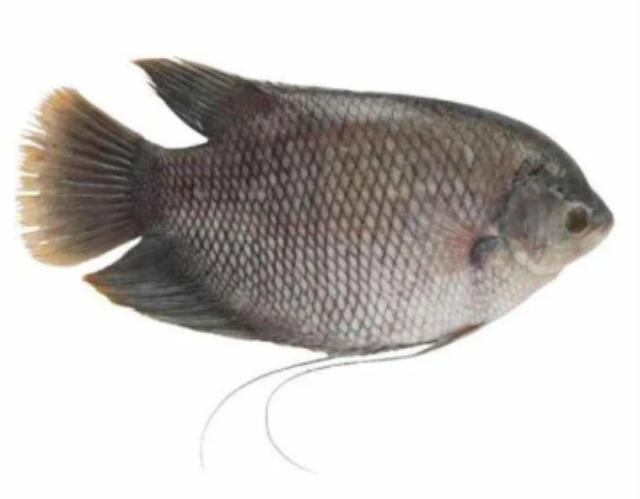Mulut: (540, 182, 628, 283)
Sirip Anal: (73, 228, 323, 368)
Sirip Dada: (386, 182, 498, 310)
Sirip Ekor: (2, 73, 172, 288)
Sirip Punggung: (114, 36, 346, 162)
